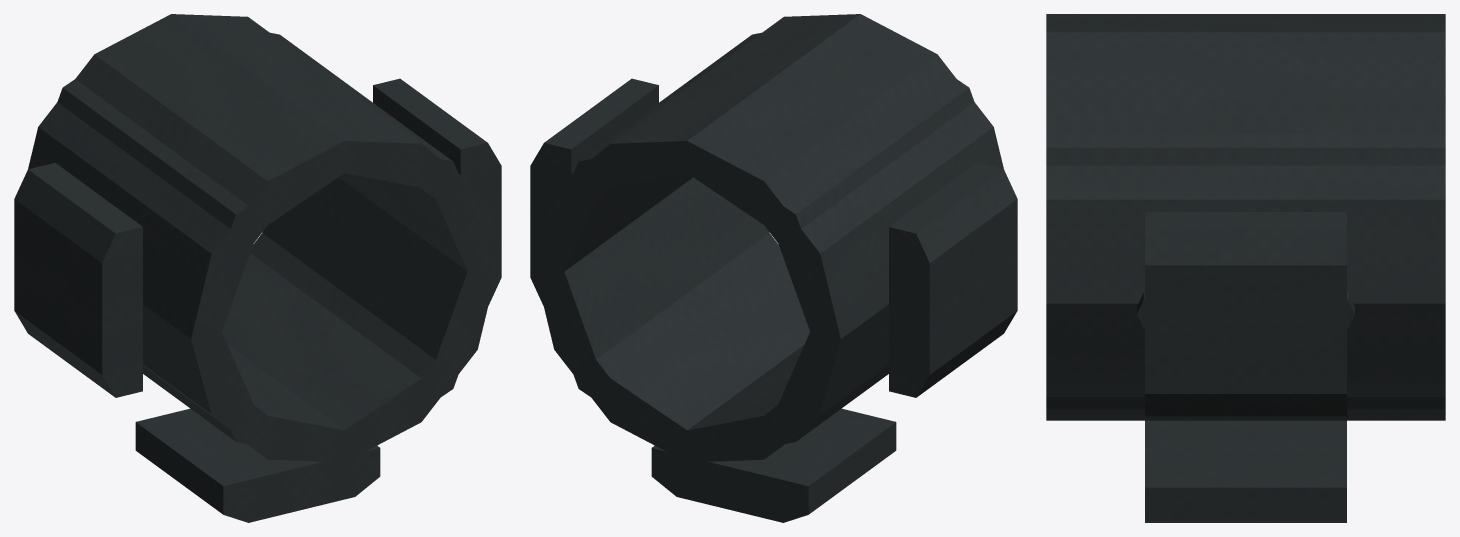
File: val_rail.glb
3 renders of one model, left to right at view 1: azimuth 30°, elevation 25°; view 2: azimuth 150°, elevation 25°; view 3: azimuth 270°, elevation 25°, orthographic. The views are drawn at different scales.
Visible parts, largest first — view 1: handguard__val_rail_LOD0_RAID_Secondary_Original_steel, handguard__val_rail_LOD1_RAID_Secondary_Original_steel; view 2: handguard__val_rail_LOD0_RAID_Secondary_Original_steel, handguard__val_rail_LOD1_RAID_Secondary_Original_steel; view 3: handguard__val_rail_LOD0_RAID_Secondary_Original_steel, handguard__val_rail_LOD1_RAID_Secondary_Original_steel.
Boxes of the visible parts, x1,y1,x2,y2 form: handguard__val_rail_LOD0_RAID_Secondary_Original_steel: (14, 14, 501, 522); handguard__val_rail_LOD1_RAID_Secondary_Original_steel: (24, 32, 497, 506); handguard__val_rail_LOD0_RAID_Secondary_Original_steel: (530, 14, 1017, 522); handguard__val_rail_LOD1_RAID_Secondary_Original_steel: (533, 32, 1006, 506); handguard__val_rail_LOD0_RAID_Secondary_Original_steel: (1046, 14, 1445, 522); handguard__val_rail_LOD1_RAID_Secondary_Original_steel: (1046, 134, 1445, 522).
Size of the model in its own units: 0.117 by 0.112 by 0.088.
1 material, 1 textured.
